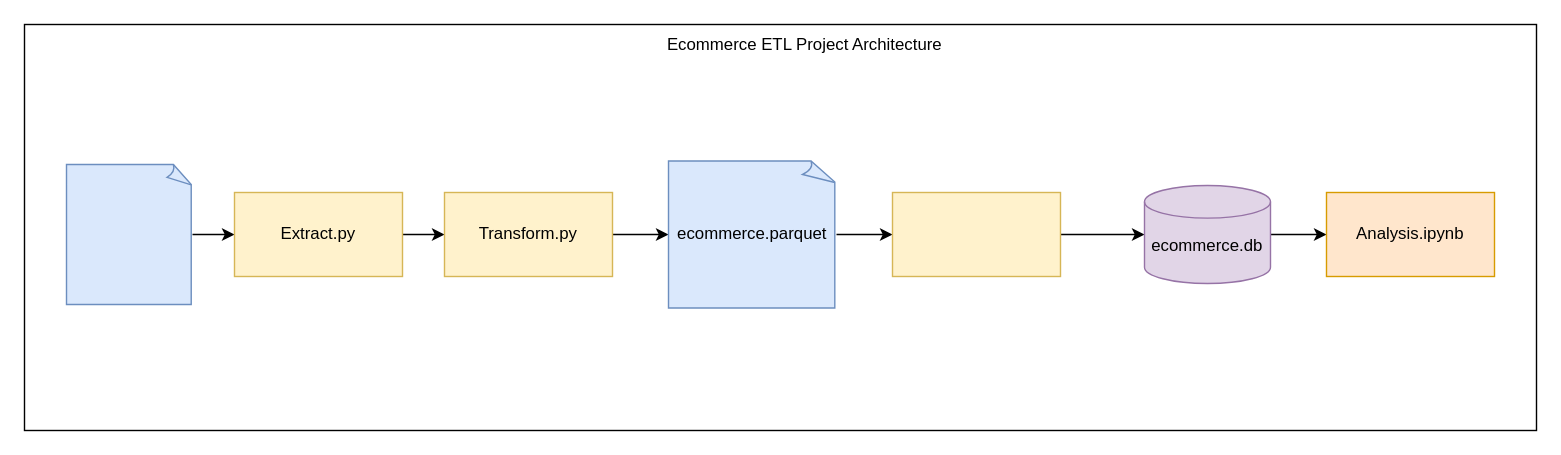
Image size: 1561x455. Some labels were removed from this diagram. The box of each missing label's shape, as (x1, y1, x2, y2) in pixels:
ecommerce.csv: (65, 163, 192, 304)
Load.py: (891, 191, 1060, 276)
